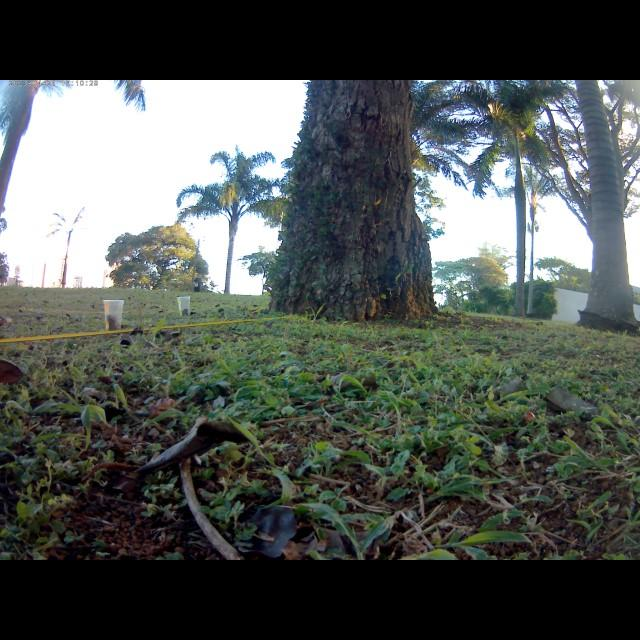arvore: (266, 82, 441, 328)
